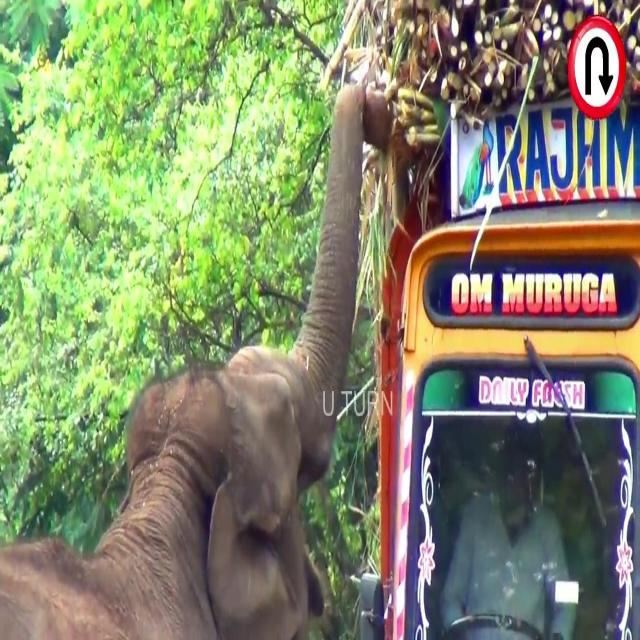Elephant: (1, 83, 393, 633)
